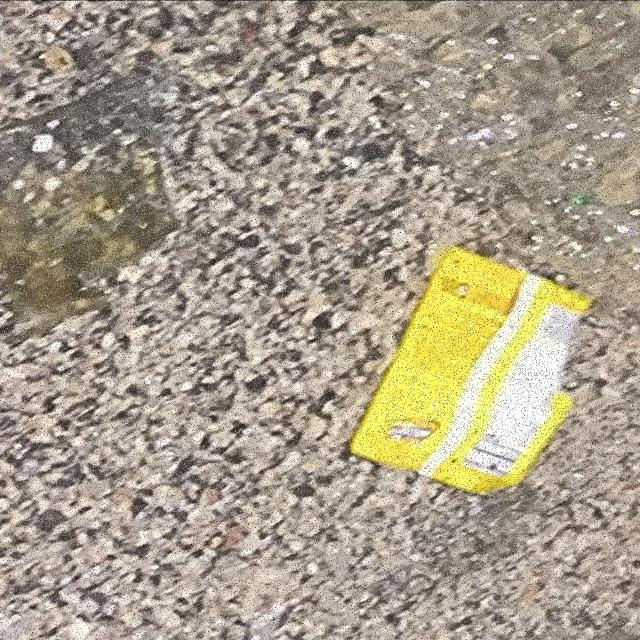plastic_waste: (349, 244, 596, 498)
